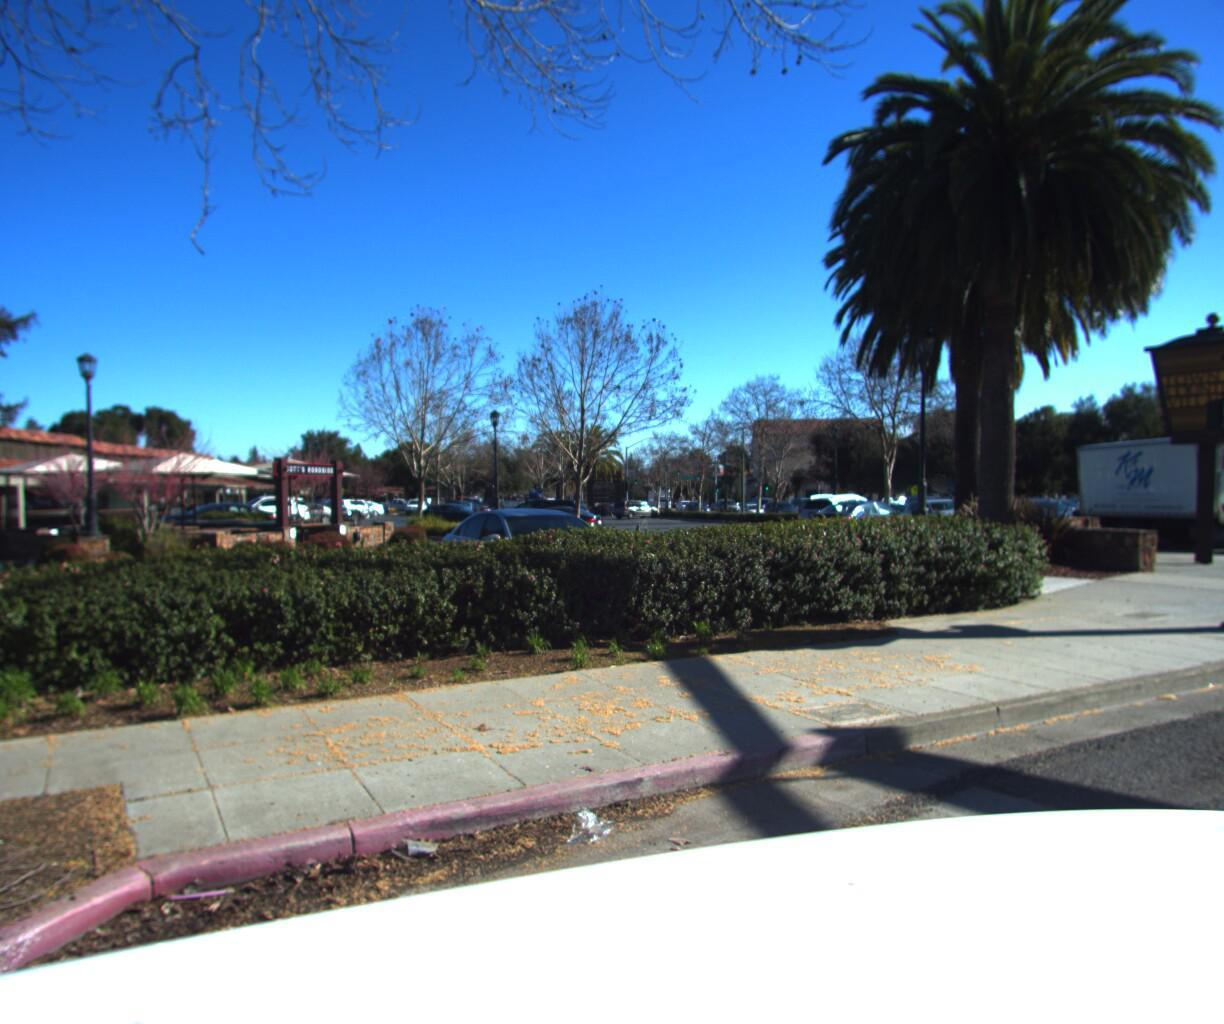car: (423, 498, 666, 623), (805, 492, 927, 541), (792, 486, 906, 531), (899, 489, 984, 528), (0, 498, 14, 671), (610, 491, 665, 511)
truck: (1074, 414, 1224, 555)
